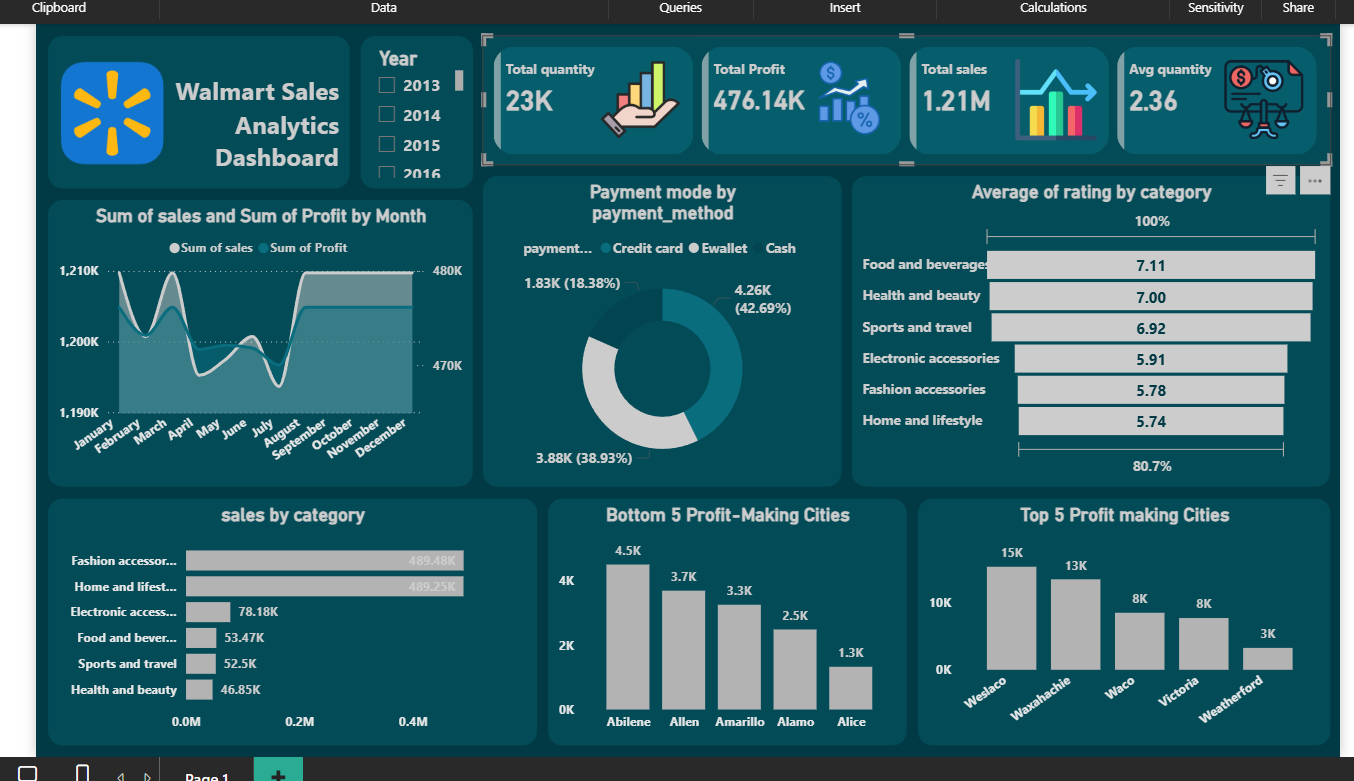

Layout of this report page (visuals, bound fields, positions):
{"tool":"powerbi","page":{"name":"Page 1","canvas":[1280,720],"ordinal":0},"visuals":[{"type":"lineChart","fields":{"Category":["Sheet2.date.Variation.Date Hierarchy.Month"],"Y":["Sum(Table2.sales)"],"Y2":["Sum(Table2.Profit)"]},"box":[11.1,172.3,418.5,283.1],"z":0},{"type":"clusteredColumnChart","title":"Top 5 Profit making Cities","fields":{"Category":["Table2.City"],"Y":["Sum(Table2.Profit)"]},"box":[865.2,465.2,406.2,243.7],"z":1000},{"type":"clusteredBarChart","title":"sales by category","fields":{"Category":["Table2.category"],"Y":["Sum(Table2.sales)"]},"box":[11.1,465.2,481.2,243.7],"z":2000},{"type":"donutChart","fields":{"Y":["CountNonNull(Table2.payment_method)"],"Category":["Table2.payment_method"]},"box":[438.2,148.9,353.2,306.5],"z":3000},{"type":"columnChart","title":"Bottom 5 Profit-Making Cities","fields":{"Category":["Table2.City"],"Y":["Sum(Table2.Profit)"]},"box":[502.2,465.2,353.2,243.7],"z":4000},{"type":"textbox","box":[11.1,11.1,297.8,151.4],"z":5000},{"type":"funnel","fields":{"Category":["Table2.category"],"Y":["Avg(Table2.rating)"]},"box":[800,148.9,471.4,306.5],"z":6000},{"type":"slicer","fields":{"Values":["Table2.date.Variation.Date Hierarchy.Year"]},"box":[317.5,11.1,112,151.4],"z":7000},{"type":"cardVisual","fields":{"Data":["Sum(Table2.quantity)","Sum(Table2.Profit)","Sum(Table2.sales)","Avg(Table2.quantity)"]},"box":[438.2,11.1,833.2,128],"z":8000},{"type":"image","box":[19.6,30.7,110.4,112.9],"z":9000}]}

Visuals, with their boxes on the page's 1280x720 design canvas (x1, y1, x2, y2). These are canvas units, not pixel positions in the 1354x781 screenshot, which may show the page scaled, cropped or inside an application window:
lineChart - Sheet2.date.Variation.Date Hierarchy.Month x Sum(Table2.sales): bbox(11, 172, 430, 455)
"Top 5 Profit making Cities" clusteredColumnChart: bbox(865, 465, 1271, 709)
"sales by category" clusteredBarChart: bbox(11, 465, 492, 709)
donutChart - CountNonNull(Table2.payment_method) x Table2.payment_method: bbox(438, 149, 791, 455)
"Bottom 5 Profit-Making Cities" columnChart: bbox(502, 465, 855, 709)
textbox: bbox(11, 11, 309, 162)
funnel - Table2.category x Avg(Table2.rating): bbox(800, 149, 1271, 455)
slicer - Table2.date.Variation.Date Hierarchy.Year: bbox(318, 11, 430, 162)
cardVisual - Sum(Table2.quantity) x Sum(Table2.Profit): bbox(438, 11, 1271, 139)
image: bbox(20, 31, 130, 144)
